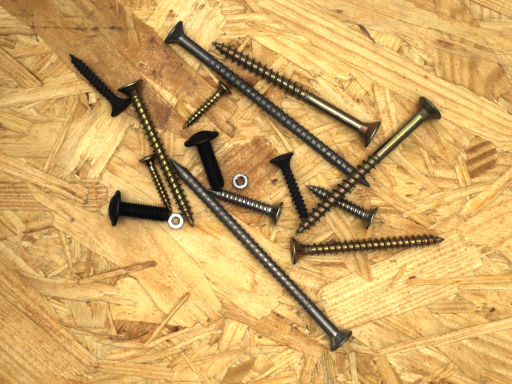screw_long: (143, 131, 369, 369), (148, 4, 395, 213)
